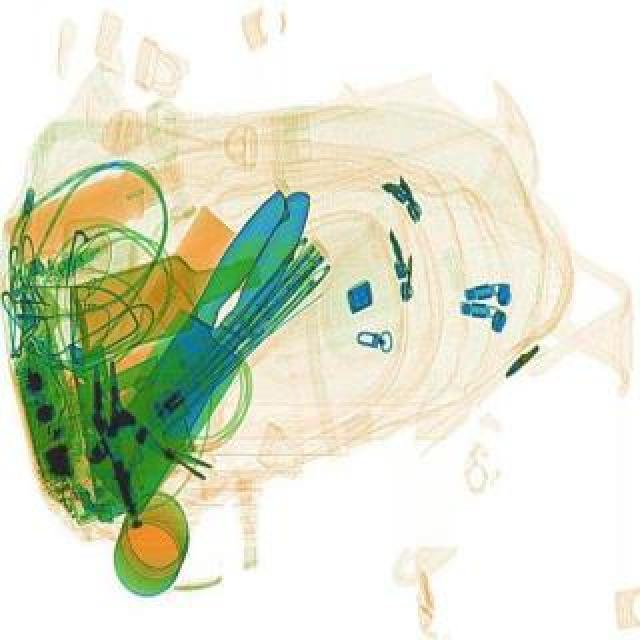knife: (72, 166, 334, 516), (68, 184, 336, 516)
